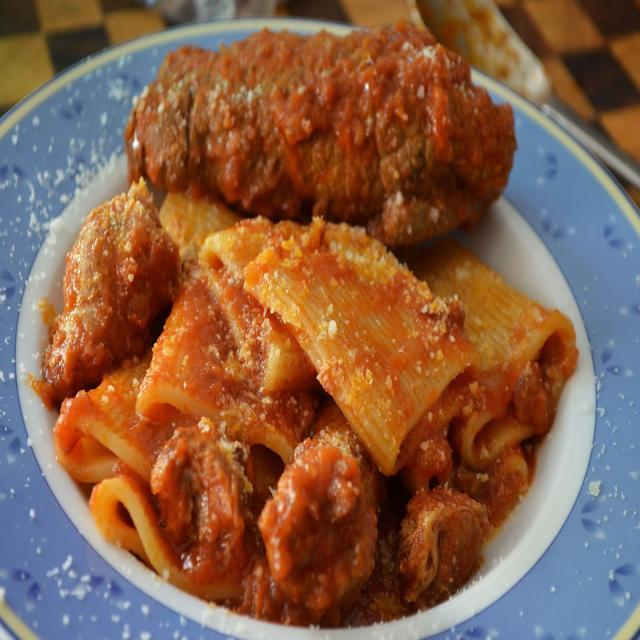Pasta al ragu: (37, 34, 603, 566)
